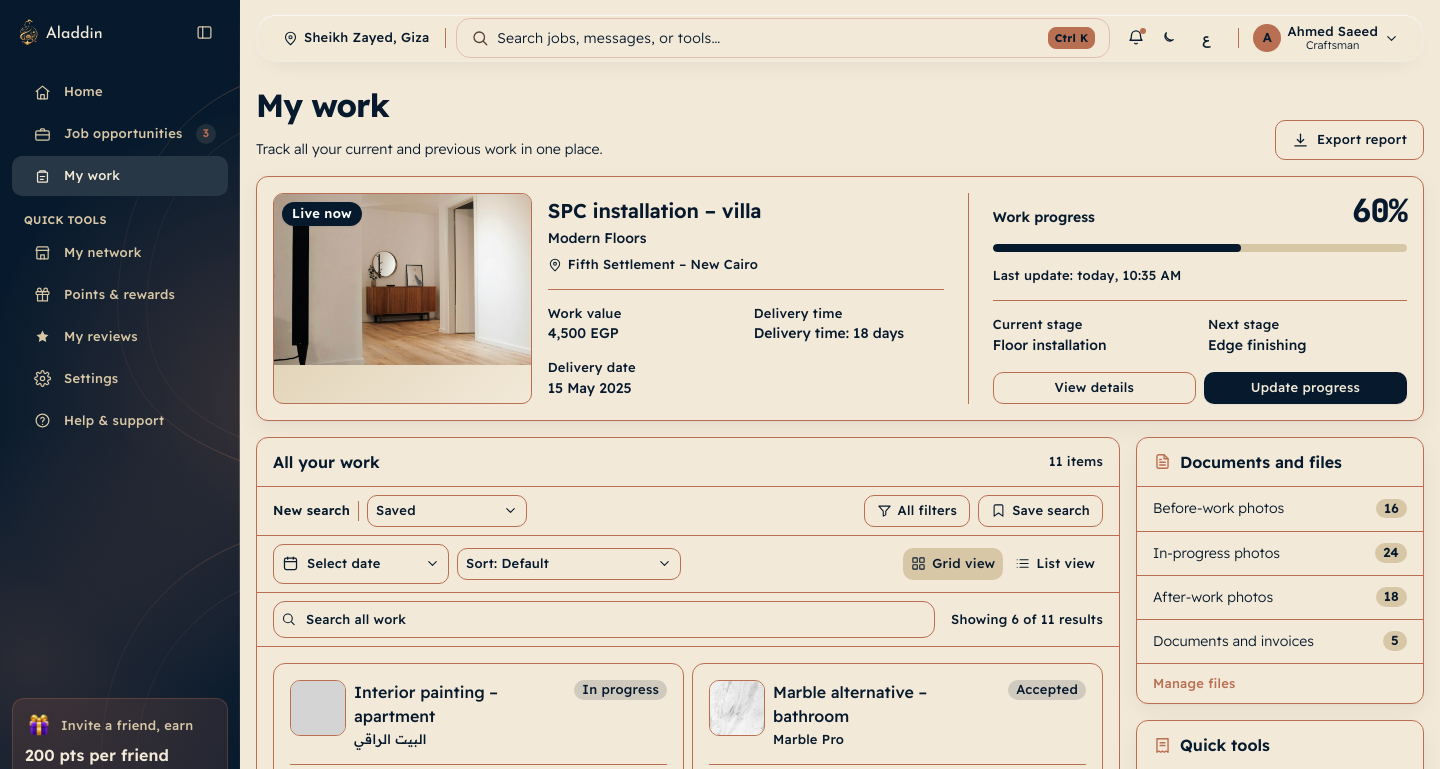
Test: InstallerMyWorkPreview › filters work records with the date-range picker
The width and height of the screenshot is (1440, 769).
Click the button "Select date". click: (361, 564)
box: [273,544,449,584]
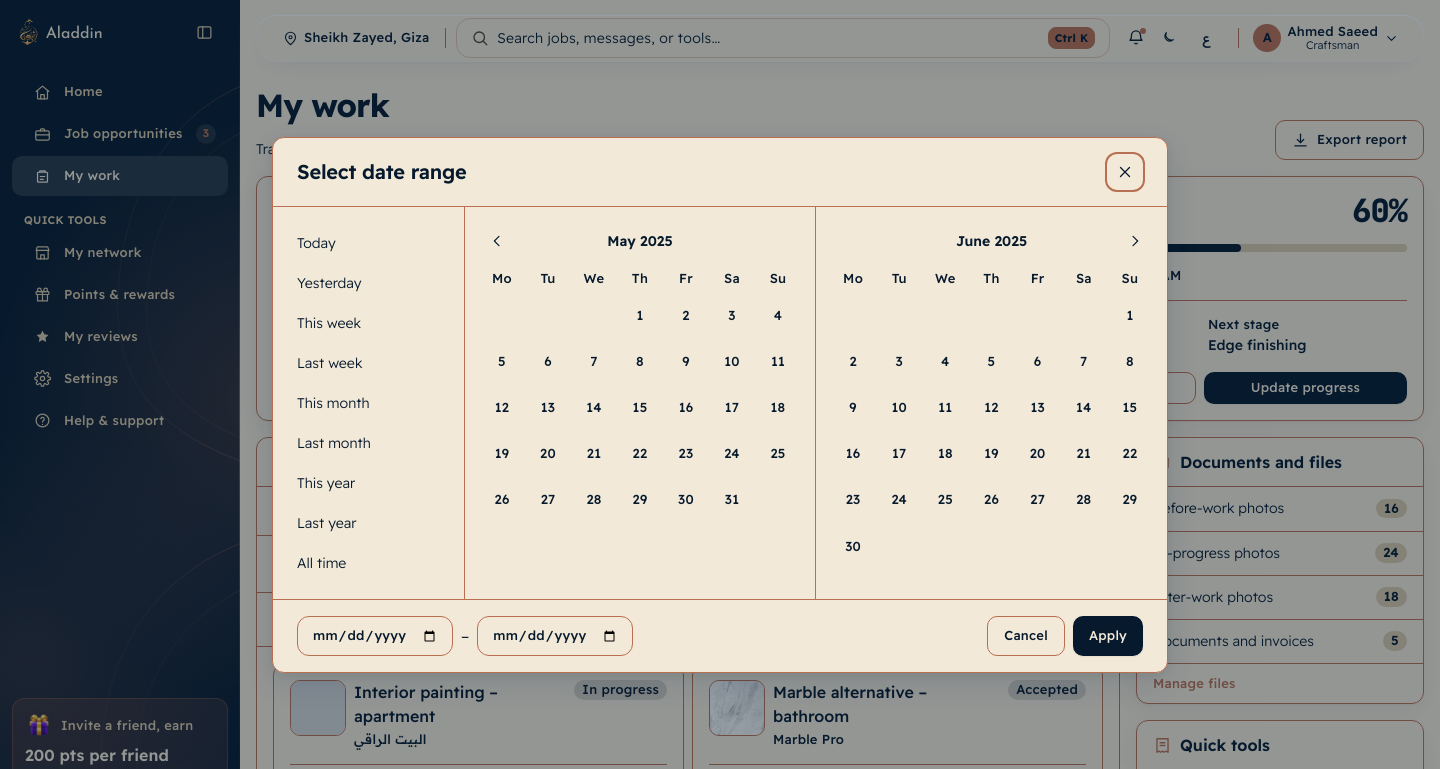
Check: the heading "Select date range" is shown, box [297,159,467,185]
Type "2025-06-01" into the date field named "From date". click: (375, 636)
box: [297,616,453,656]
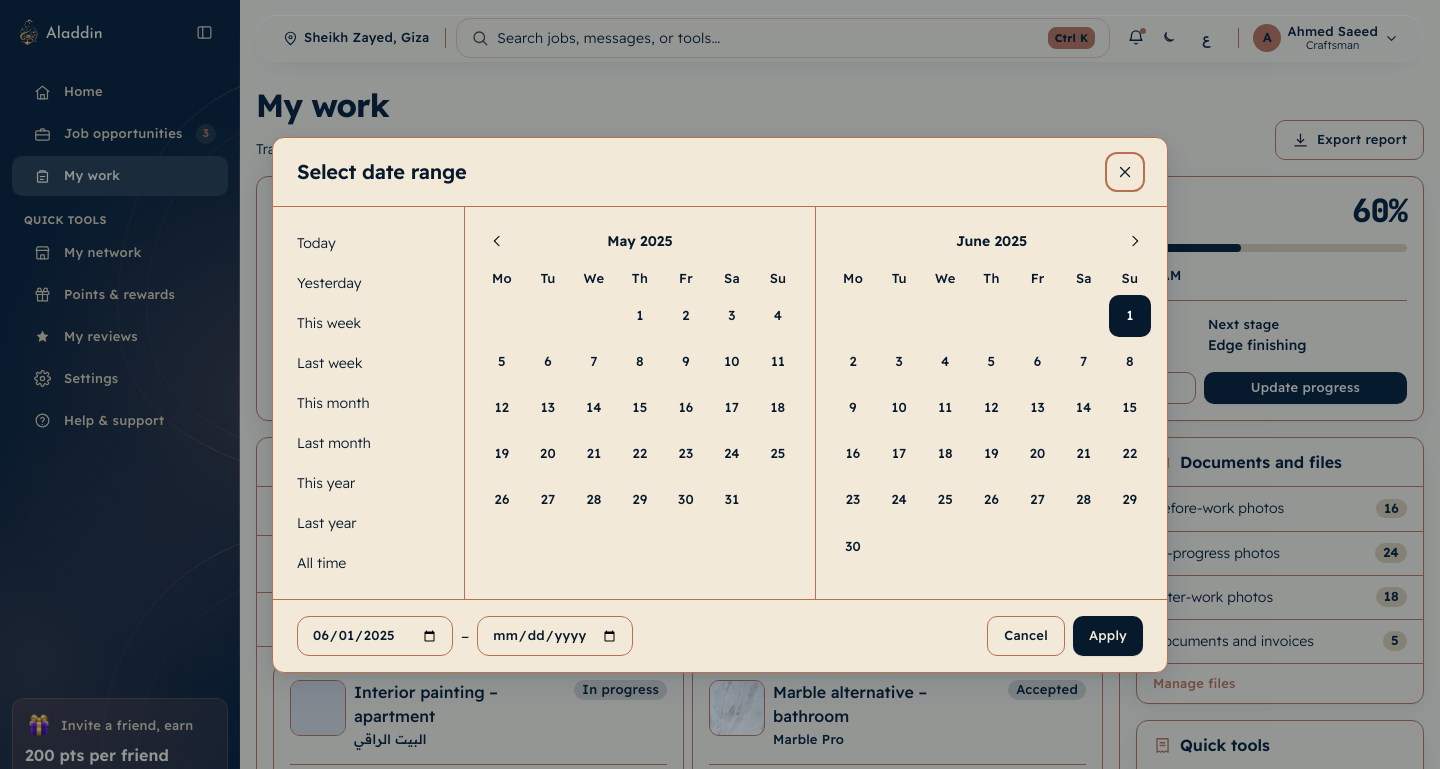
Type "2025-06-30" into the date field named "To date". click: (555, 636)
box: [477,616,633,656]
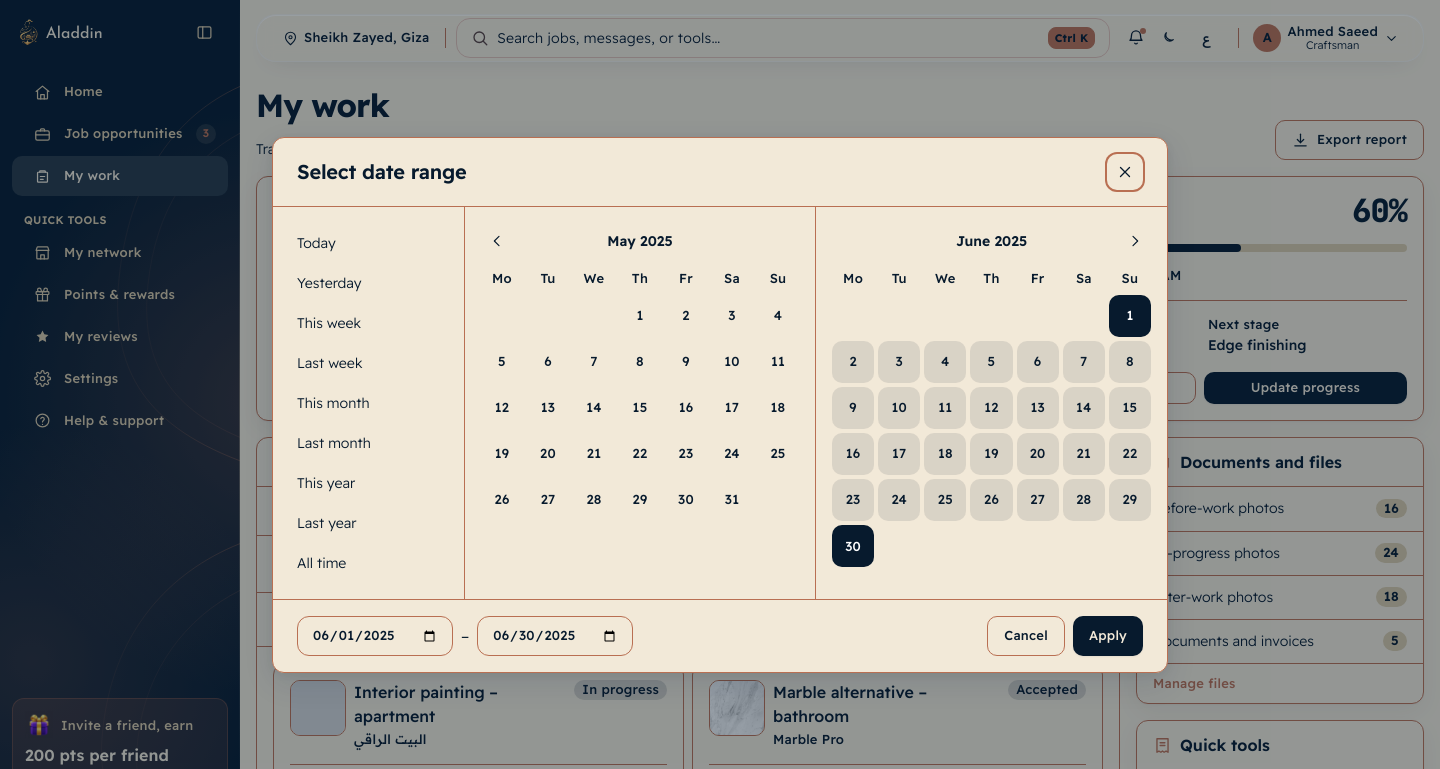
Click the button "Apply". click: (1108, 636)
box: [1073,616,1143,656]
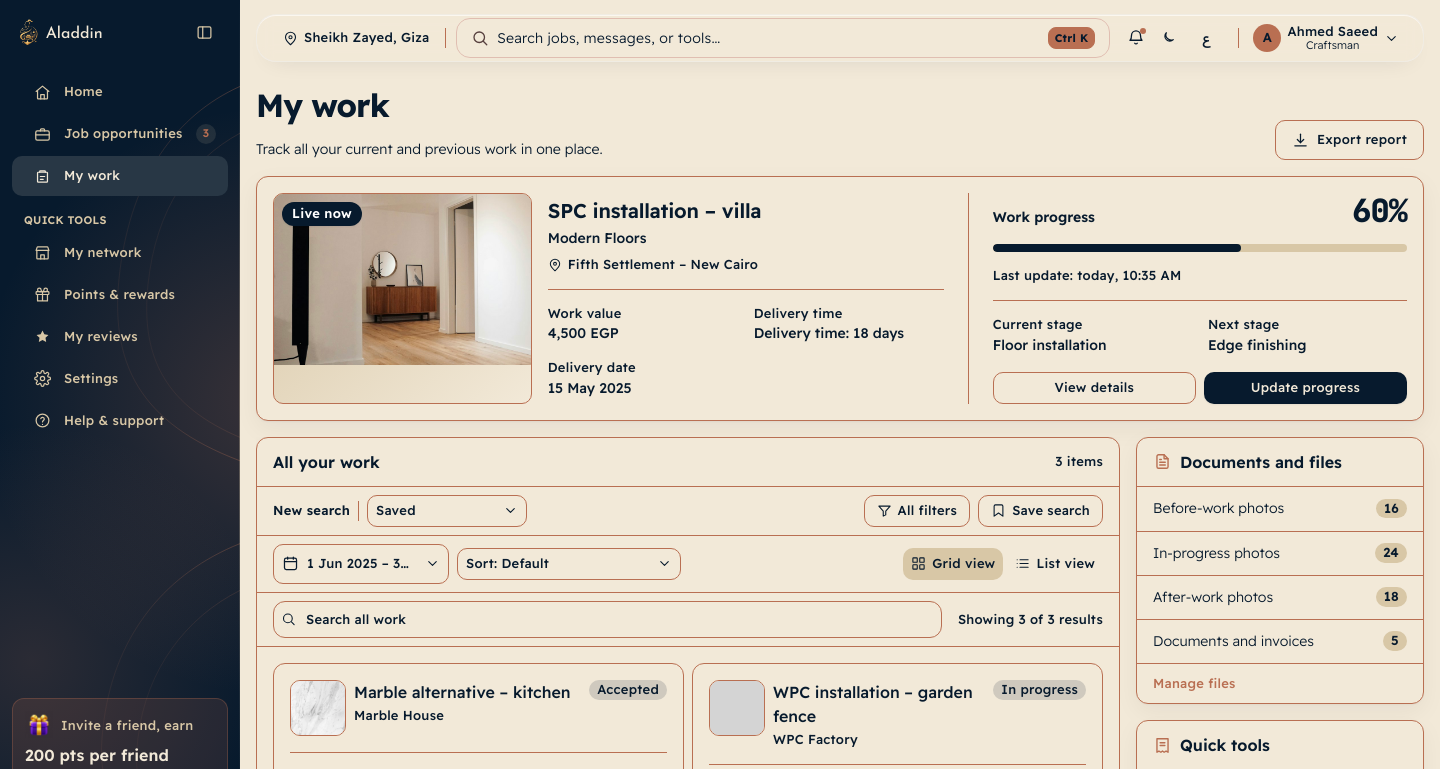
Check: the text "Interior painting – apartment" is gone
